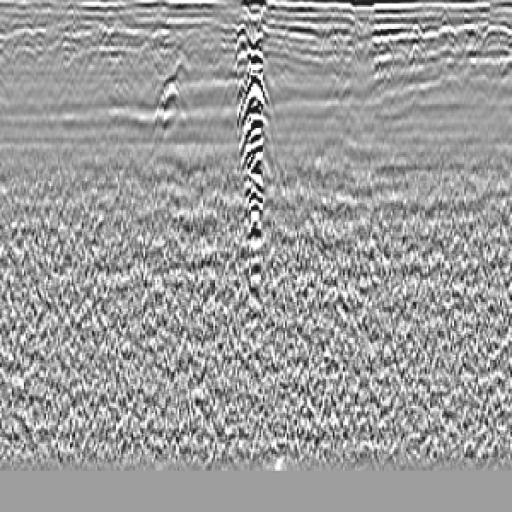metalic: (226, 15, 280, 314)
nonmetalic: (141, 68, 204, 141)
